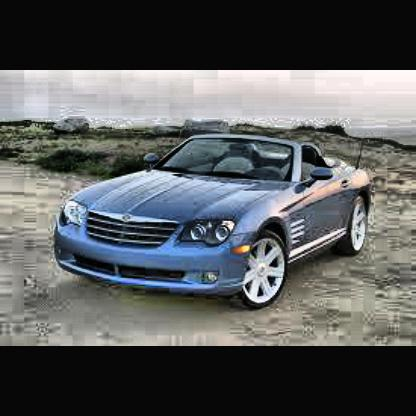Chrysler Crossfire Convertible 2008: (57, 124, 373, 307)
